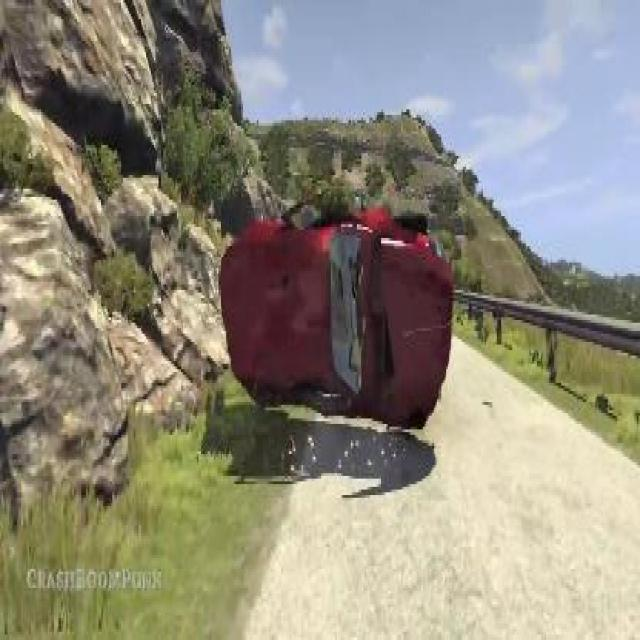accident: (217, 183, 454, 443)
